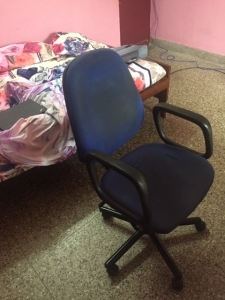chair: (62, 49, 215, 290)
